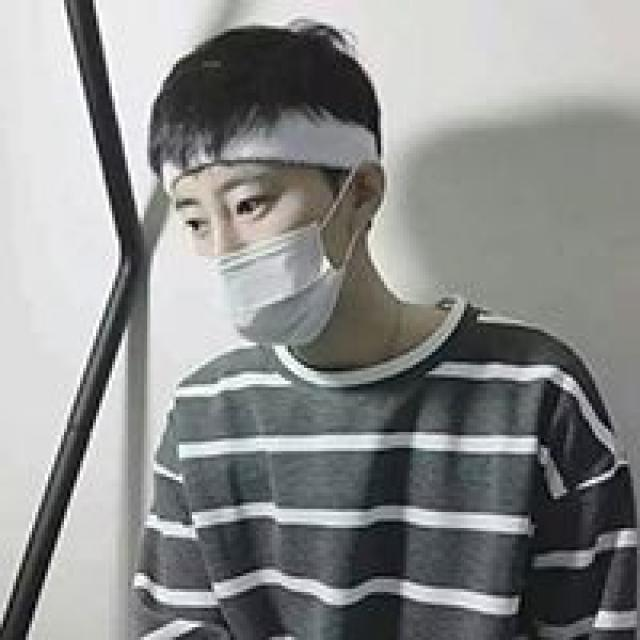mask: (162, 123, 344, 344)
